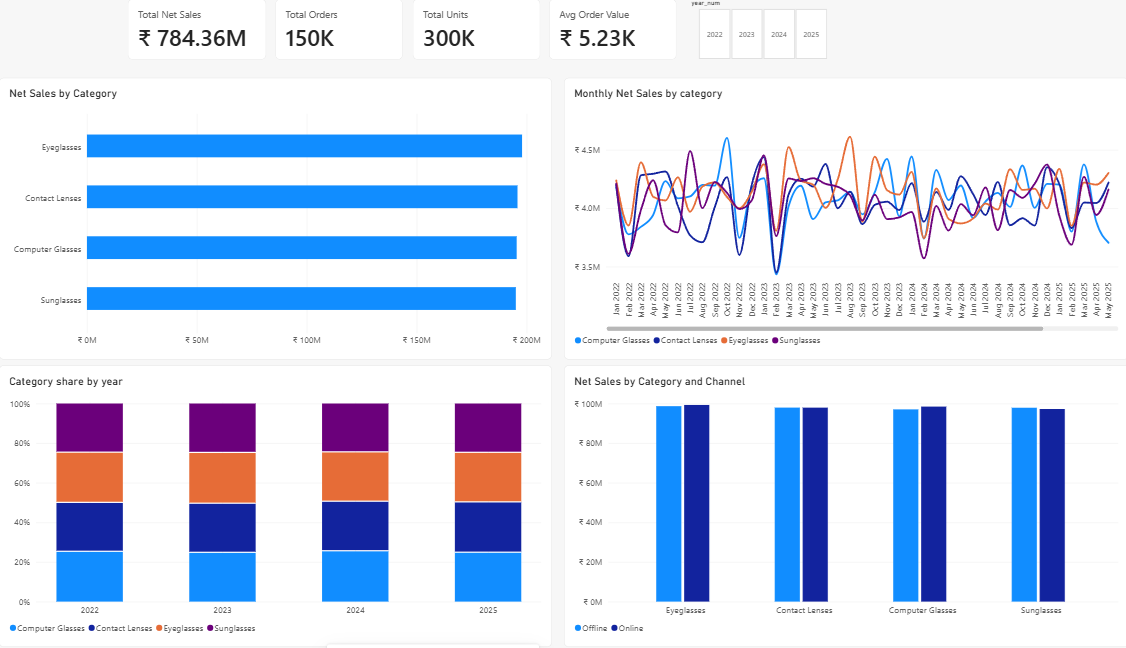

This screenshot's page, from the dashboard's own definition file:
{"tool":"powerbi","page":{"name":"Product and Category Trends","canvas":[1920,1080],"ordinal":1},"visuals":[{"type":"cardVisual","fields":{"Data":["fact_sales.Total Net Sales"]},"box":[212,0,228,100],"z":0},{"type":"cardVisual","fields":{"Data":["fact_sales.Avg Order Value"]},"box":[906.5,0,210,100],"z":1},{"type":"cardVisual","fields":{"Data":["fact_sales.Total Orders"]},"box":[455.5,0,210,100],"z":2},{"type":"cardVisual","fields":{"Data":["fact_sales.Total Units"]},"box":[681,0,210,100],"z":3},{"type":"slicer","fields":{"Values":["dim_date.year_num"]},"box":[1132,0,250,100],"z":4},{"type":"clusteredBarChart","title":" Net Sales by Category","fields":{"Category":["dim_product_category.product_category"],"Y":["fact_sales.Total Net Sales"]},"box":[0,130,910,464],"z":5},{"type":"lineChart","title":"Monthly  Net Sales by category","fields":{"Category":["dim_date.year_month_name"],"Series":["dim_product_category.product_category"],"Y":["fact_sales.Total Net Sales"]},"box":[930,130,930,464],"z":6},{"type":"hundredPercentStackedColumnChart","title":"Category share by year","fields":{"Category":["dim_date.year_num"],"Series":["dim_product_category.product_category"],"Y":["fact_sales.Total Net Sales"]},"box":[0,604,910,464],"z":7},{"type":"clusteredColumnChart","title":" Net Sales by Category and Channel","fields":{"Category":["dim_product_category.product_category"],"Series":["dim_channel.sales_channel"],"Y":["fact_sales.Total Net Sales"]},"box":[930,604,930,464],"z":8}]}

Visuals, with their boxes in screenshot pixels (x1, y1, x2, y2), scaled from the page's 1920x1080 canvas onto the 1126x648 screenshot:
cardVisual - fact_sales.Total Net Sales: BBox(124, 0, 258, 60)
cardVisual - fact_sales.Avg Order Value: BBox(532, 0, 655, 60)
cardVisual - fact_sales.Total Orders: BBox(267, 0, 390, 60)
cardVisual - fact_sales.Total Units: BBox(399, 0, 523, 60)
slicer - dim_date.year_num: BBox(664, 0, 810, 60)
" Net Sales by Category" clusteredBarChart: BBox(0, 78, 534, 356)
"Monthly  Net Sales by category" lineChart: BBox(545, 78, 1091, 356)
"Category share by year" hundredPercentStackedColumnChart: BBox(0, 362, 534, 641)
" Net Sales by Category and Channel" clusteredColumnChart: BBox(545, 362, 1091, 641)
